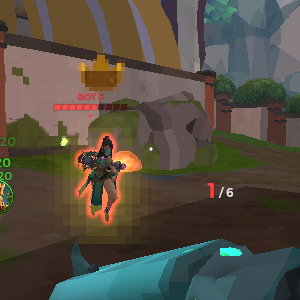model: (78, 128, 125, 228)
